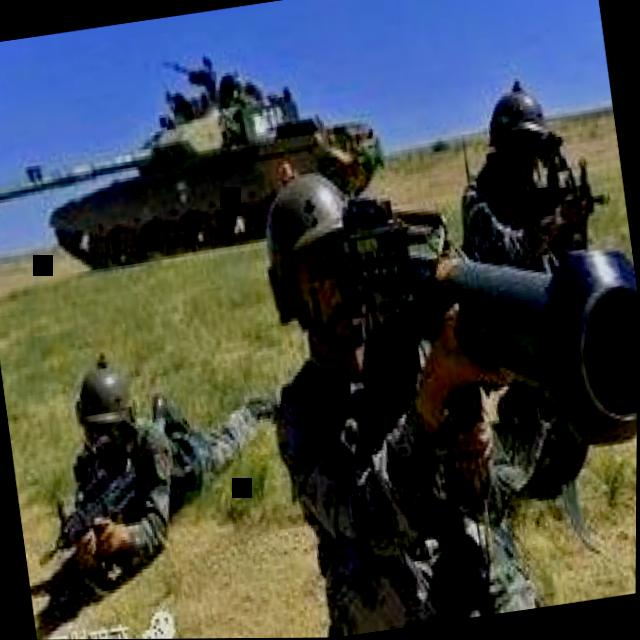Fall-Detected: (14, 306, 302, 593)
